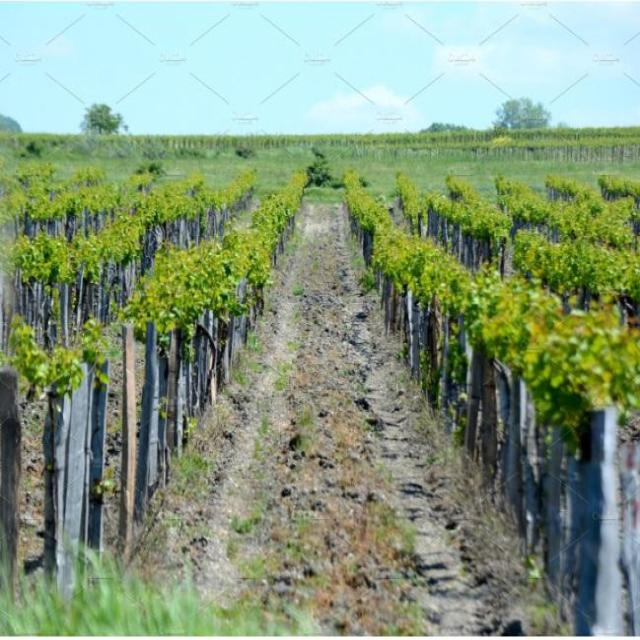row: (59, 199, 584, 635)
